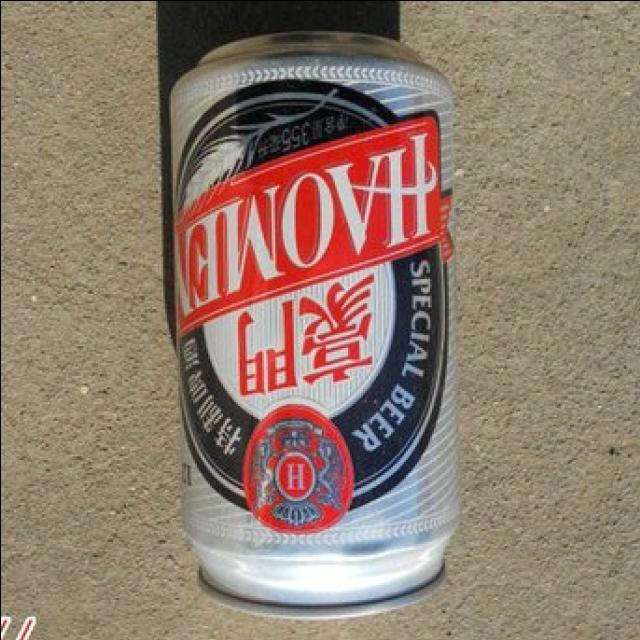-Recyclables - can-: (166, 26, 460, 622)
